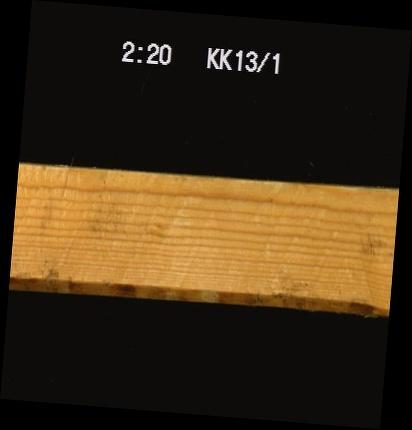wave: (9, 279, 387, 310)
